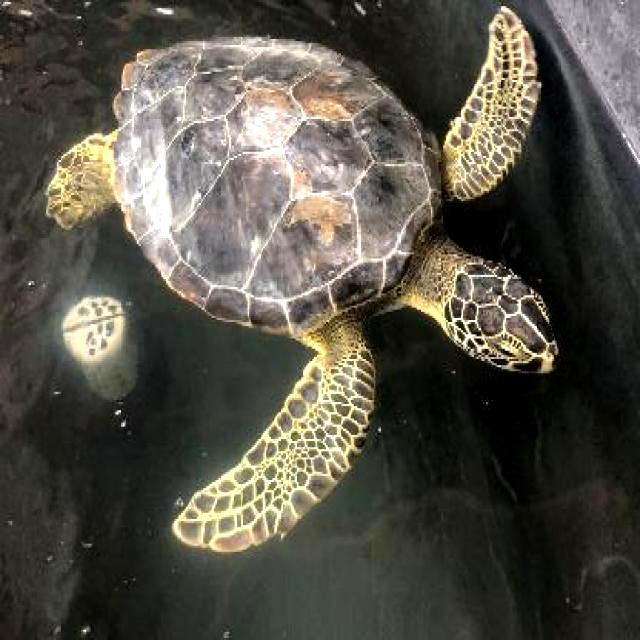Sea turtle: (45, 2, 568, 534)
